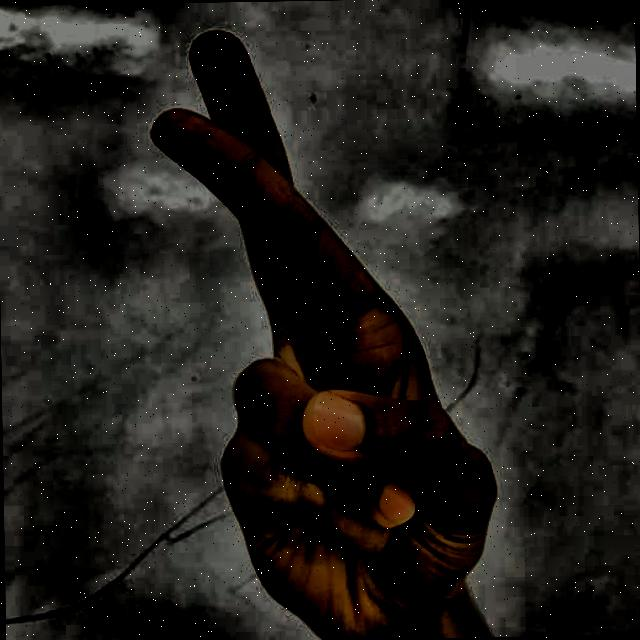Ra: (106, 20, 522, 640)
